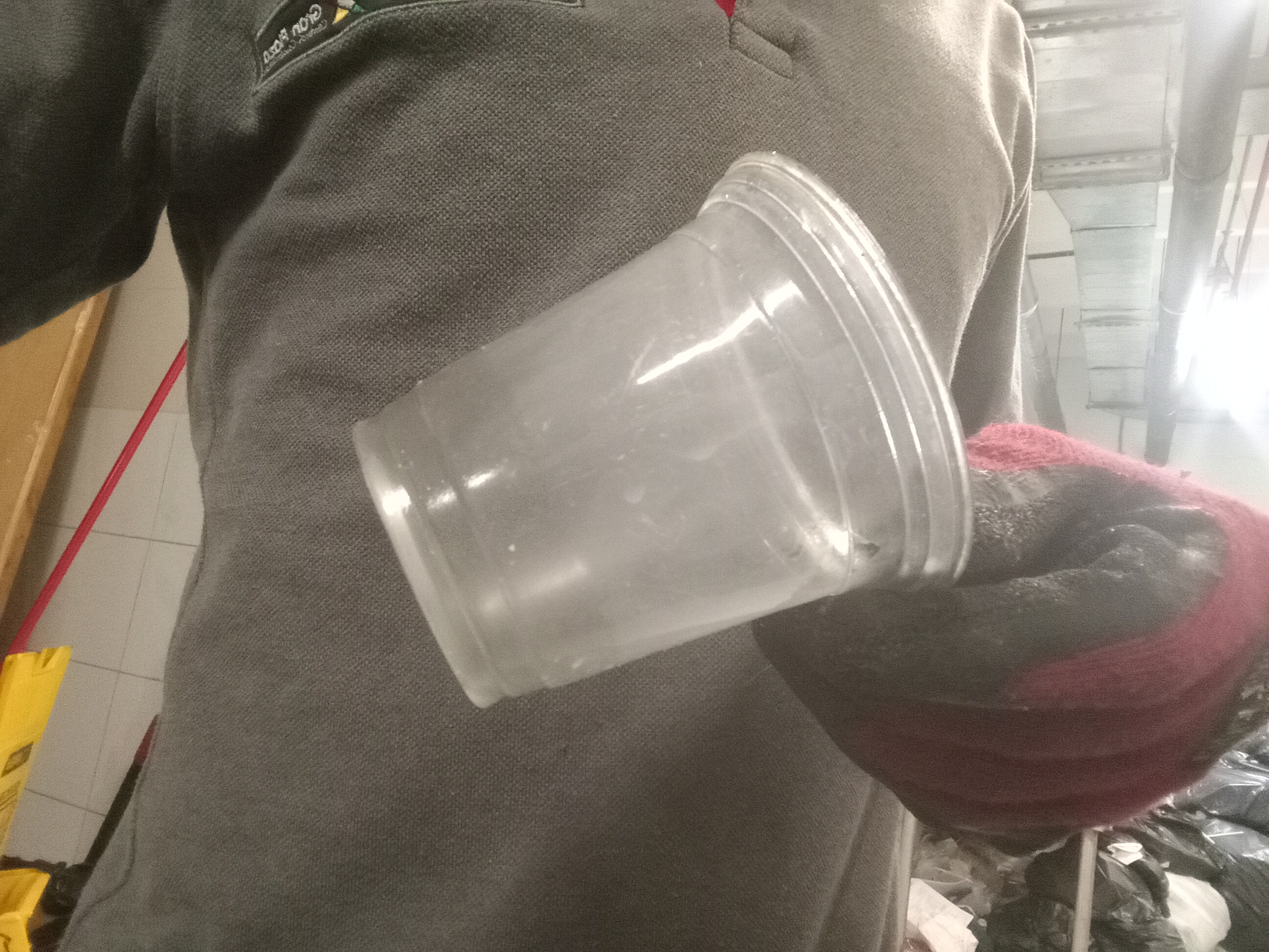Plastico: (350, 150, 974, 712)
